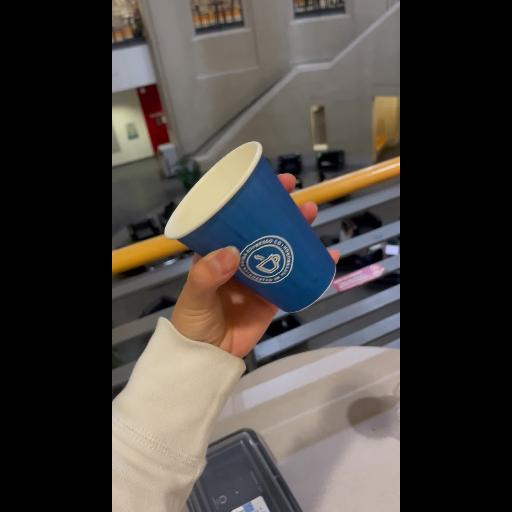lp_paper_cup: (163, 124, 347, 326)
